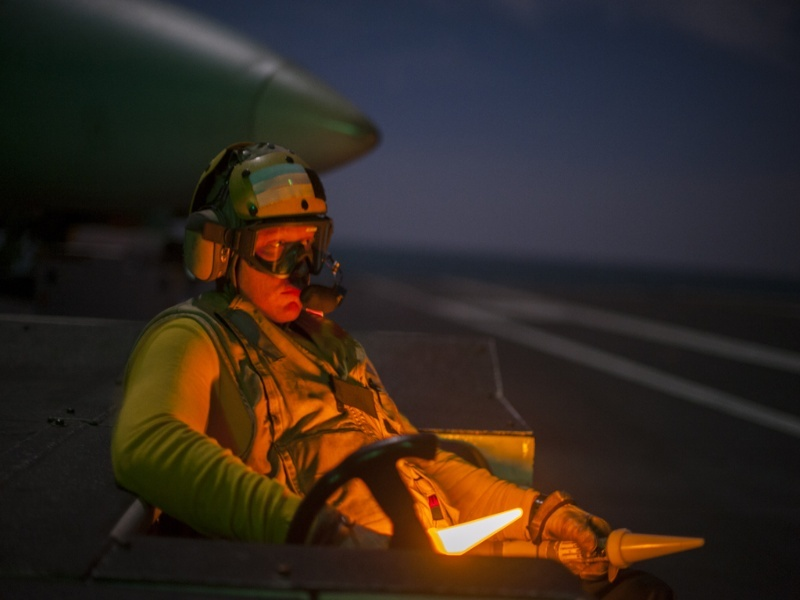baret: (203, 139, 330, 239)
gozluk: (225, 225, 328, 297)
